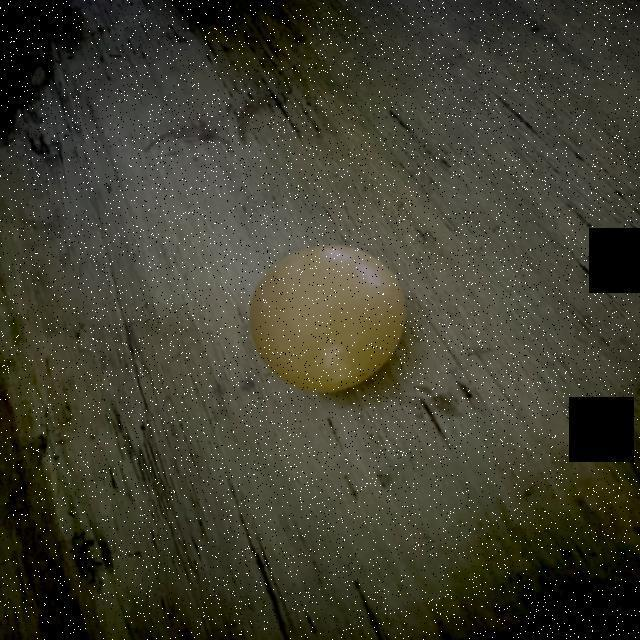egg: (241, 238, 407, 396)
